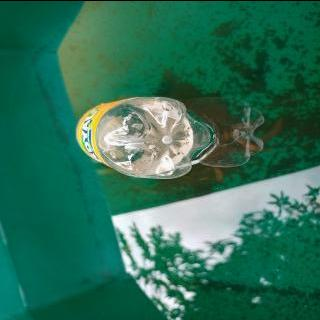bottle: (72, 94, 219, 179)
